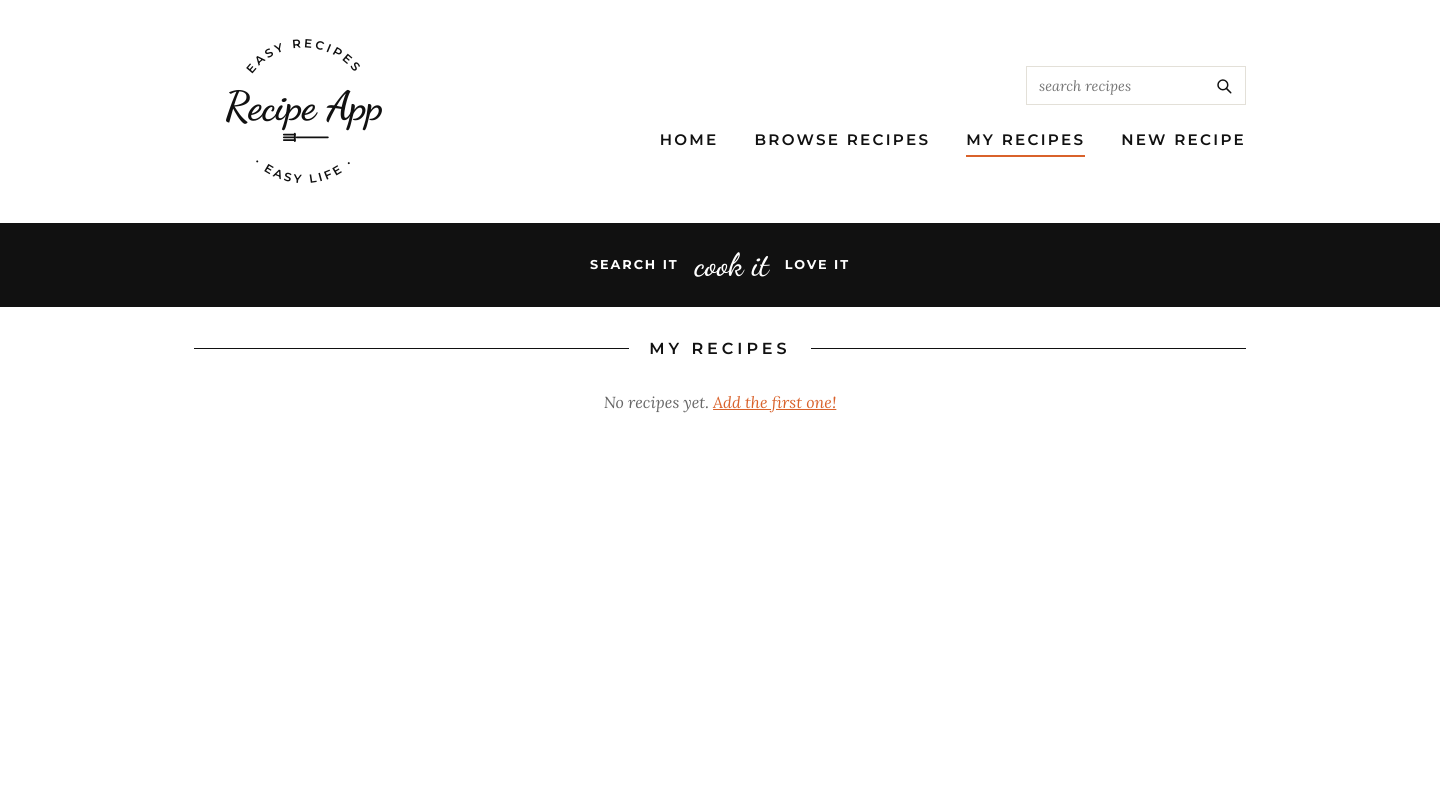
Test case: App routes › keeps saved recipes and recipe creation available
Expected: the text "No recipes yet." is shown, [604,392,713,412]
Step 1. Click the link "My recipes" → (1026,143), box [966,129,1085,157]
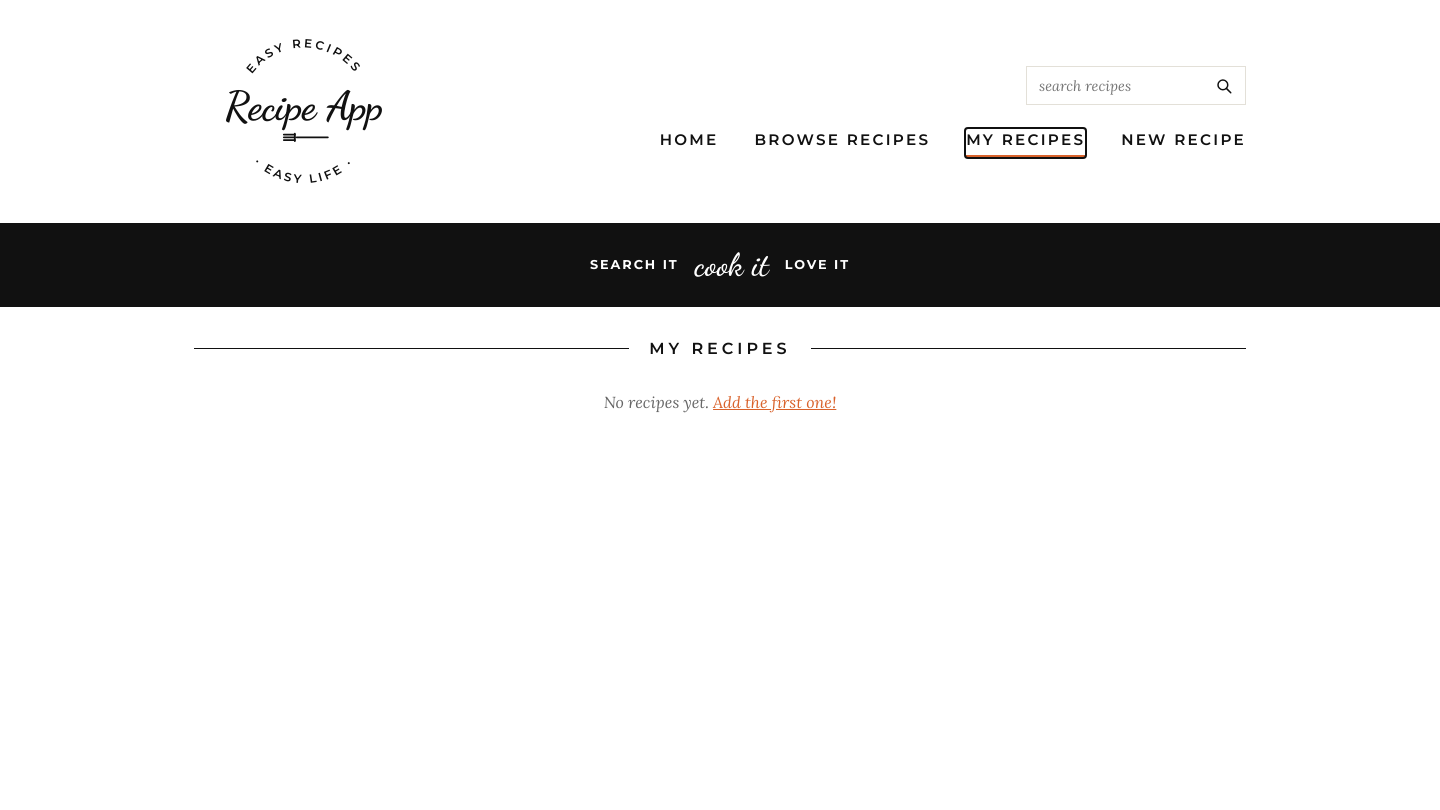
Expected: the text "No recipes yet." is shown, [604,392,713,412]
Step 2. Click the link "New recipe" → (1184,143), box [1121,129,1246,157]
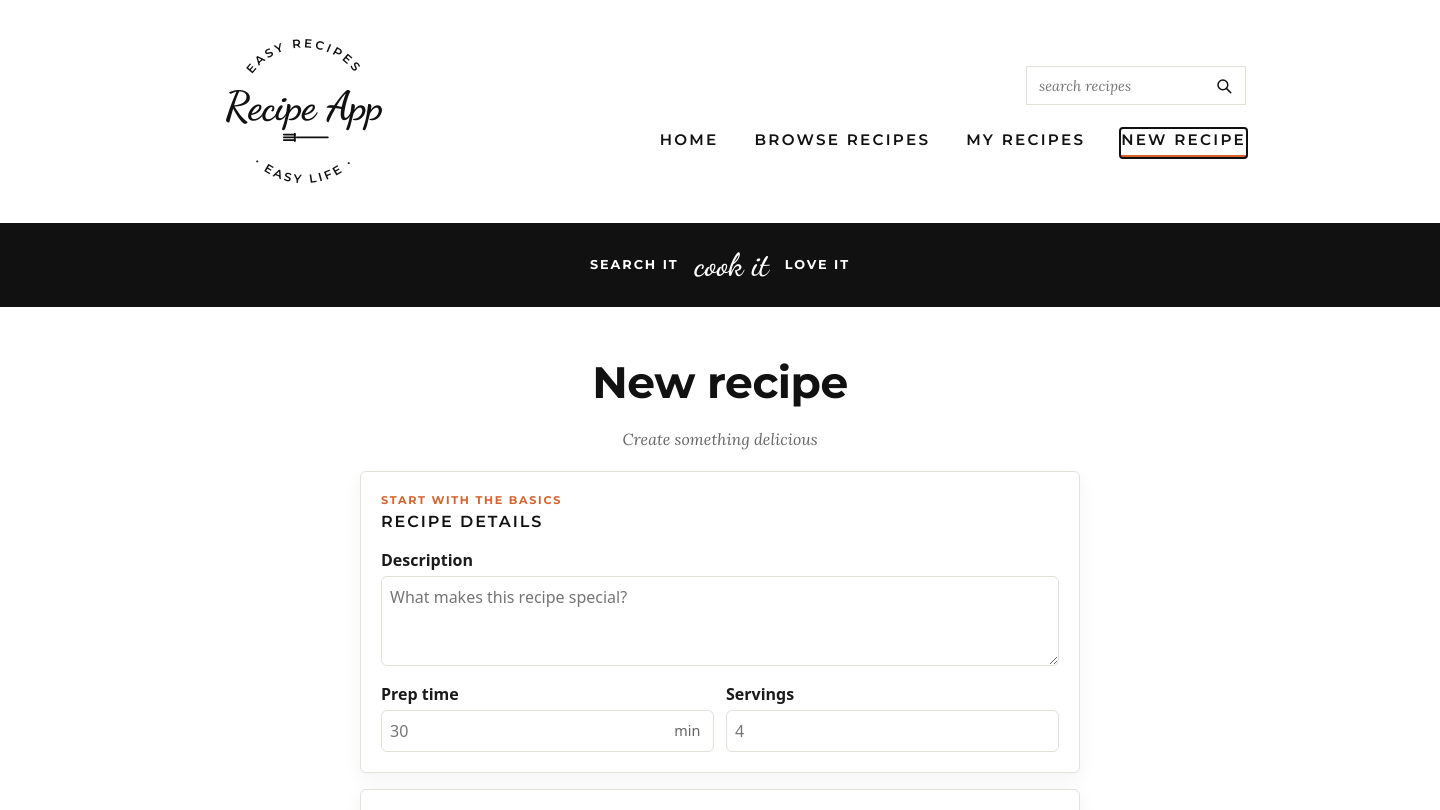
Expected: the heading named "New recipe" is shown, [360,346,1080,418]
